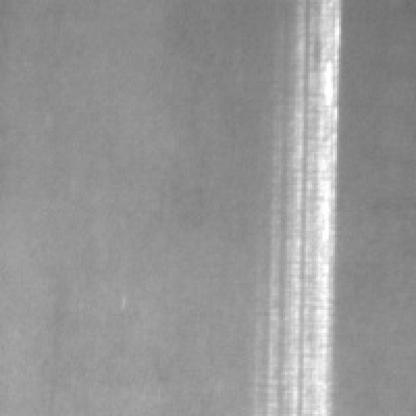scratches: (277, 0, 337, 410)
